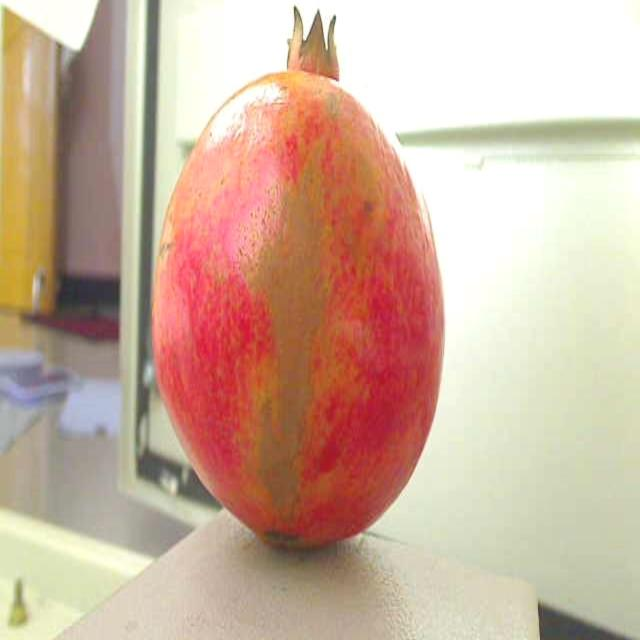pomegranate: (141, 0, 468, 580)
